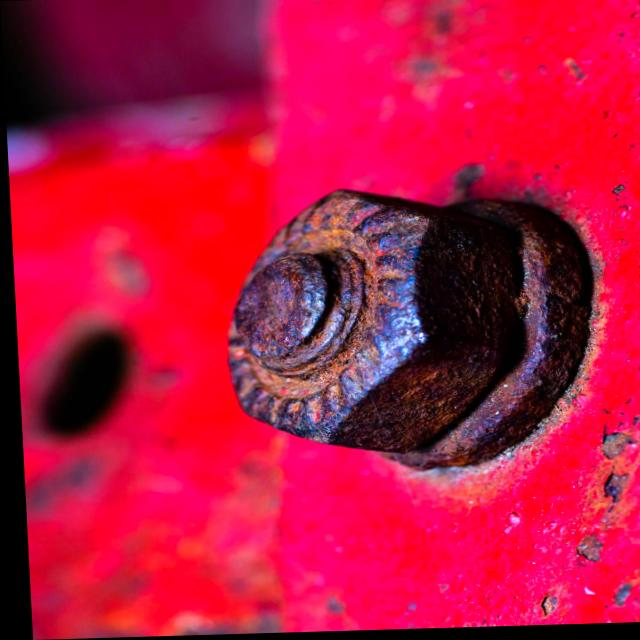Rusty bolt: (211, 186, 547, 461)
